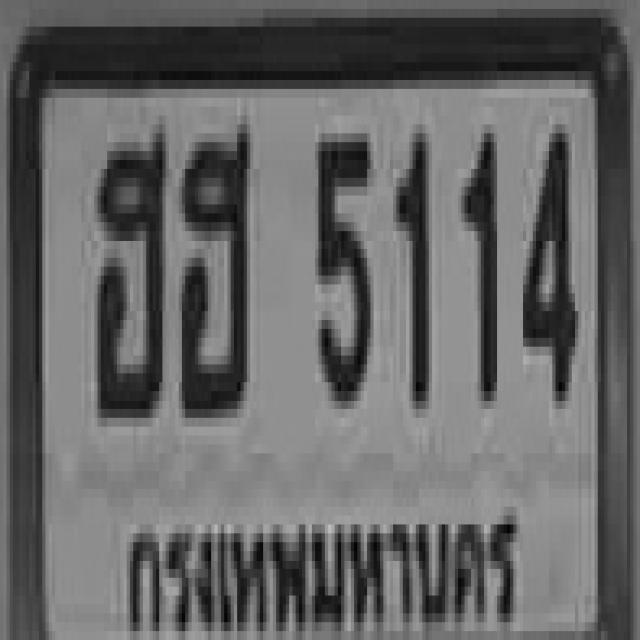1: (458, 125, 494, 391), (393, 124, 426, 400)
4: (520, 116, 572, 391)
5: (315, 120, 367, 396)
53HorNokHook: (179, 124, 247, 409), (94, 124, 162, 409)
Bangkok: (118, 499, 533, 640)
